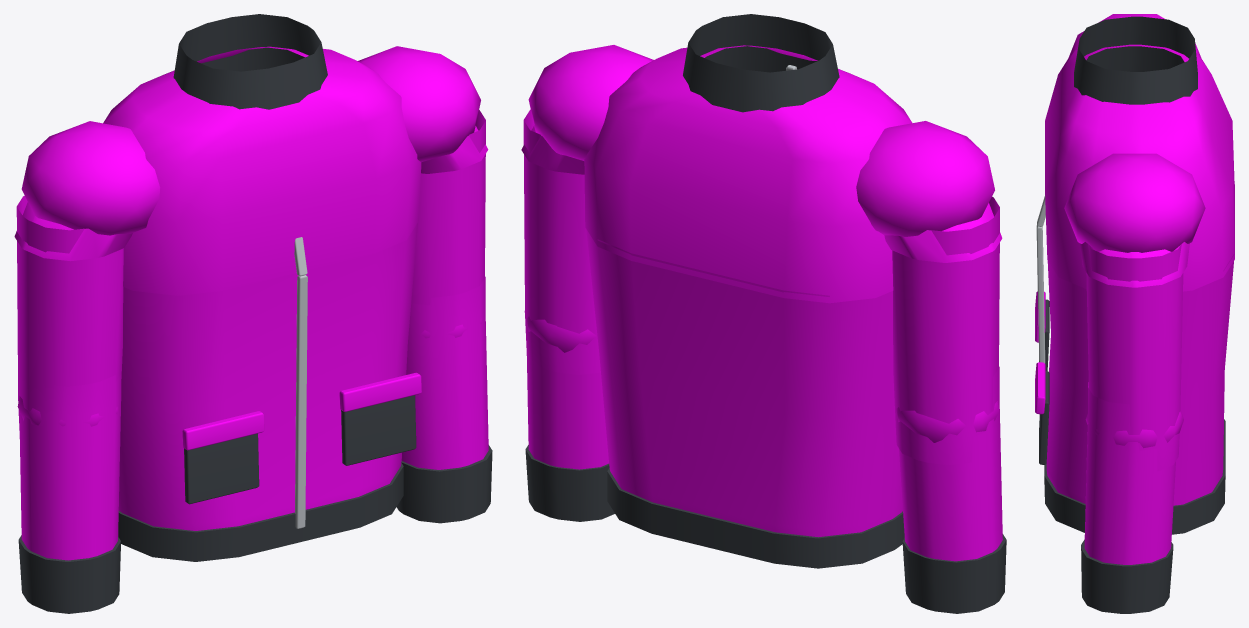
Rendered from porte_veste.glb.
3 views of the same model, side by side, from view 1: azimuth 30°, elevation 25°; view 2: azimuth 150°, elevation 25°; view 3: azimuth 270°, elevation 25° (orthographic). The views are drawn at different scales.
Parts seen in each view (by area): view 1: poitrine__veste_teinte.002, ventre__veste_teinte.002, ventre__veste_teinte_sombre.002, avantbras_d__veste_teinte.002, bras_d__veste_teinte.002, avantbras_g__veste_teinte.002, poitrine__veste_teinte_sombre.002, bras_g__veste_teinte.002, avantbras_d__veste_teinte_sombre.002, avantbras_g__veste_teinte_sombre.002, ventre__veste_fermeture.002; view 2: poitrine__veste_teinte.002, ventre__veste_teinte.002, bras_d__veste_teinte.002, bras_g__veste_teinte.002, avantbras_d__veste_teinte.002, poitrine__veste_teinte_sombre.002, ventre__veste_teinte_sombre.002, avantbras_g__veste_teinte.002, avantbras_d__veste_teinte_sombre.002, avantbras_g__veste_teinte_sombre.002; view 3: poitrine__veste_teinte.002, ventre__veste_teinte.002, bras_g__veste_teinte.002, avantbras_g__veste_teinte.002, poitrine__veste_teinte_sombre.002, avantbras_g__veste_teinte_sombre.002, ventre__veste_teinte_sombre.002, ventre__veste_fermeture.002.
Part boxes in pixels (<box>): poitrine__veste_teinte.002: <box>14,46,488,295</box>; ventre__veste_teinte.002: <box>118,223,421,530</box>; ventre__veste_teinte_sombre.002: <box>118,395,416,561</box>; avantbras_d__veste_teinte.002: <box>17,374,121,560</box>; bras_d__veste_teinte.002: <box>16,195,123,430</box>; avantbras_g__veste_teinte.002: <box>401,276,488,469</box>; poitrine__veste_teinte_sombre.002: <box>173,14,327,109</box>; bras_g__veste_teinte.002: <box>411,110,485,305</box>; avantbras_d__veste_teinte_sombre.002: <box>18,535,120,613</box>; avantbras_g__veste_teinte_sombre.002: <box>396,445,492,523</box>; ventre__veste_fermeture.002: <box>295,275,307,528</box>; poitrine__veste_teinte.002: <box>521,45,1002,303</box>; ventre__veste_teinte.002: <box>586,229,902,537</box>; bras_d__veste_teinte.002: <box>892,196,999,465</box>; bras_g__veste_teinte.002: <box>523,109,600,374</box>; avantbras_d__veste_teinte.002: <box>896,366,1002,561</box>; poitrine__veste_teinte_sombre.002: <box>683,14,839,112</box>; ventre__veste_teinte_sombre.002: <box>607,468,904,568</box>; avantbras_g__veste_teinte.002: <box>524,311,608,469</box>; avantbras_d__veste_teinte_sombre.002: <box>902,534,1006,613</box>; avantbras_g__veste_teinte_sombre.002: <box>525,445,614,521</box>; poitrine__veste_teinte.002: <box>1045,14,1234,291</box>; ventre__veste_teinte.002: <box>1035,184,1234,505</box>; bras_g__veste_teinte.002: <box>1086,244,1183,471</box>; avantbras_g__veste_teinte.002: <box>1084,382,1183,564</box>; poitrine__veste_teinte_sombre.002: <box>1074,16,1197,104</box>; avantbras_g__veste_teinte_sombre.002: <box>1081,539,1173,613</box>; ventre__veste_teinte_sombre.002: <box>1039,299,1225,534</box>; ventre__veste_fermeture.002: <box>1036,225,1045,363</box>.
Bounding box in the file's own units: 0.64 × 0.67 × 0.2598.
